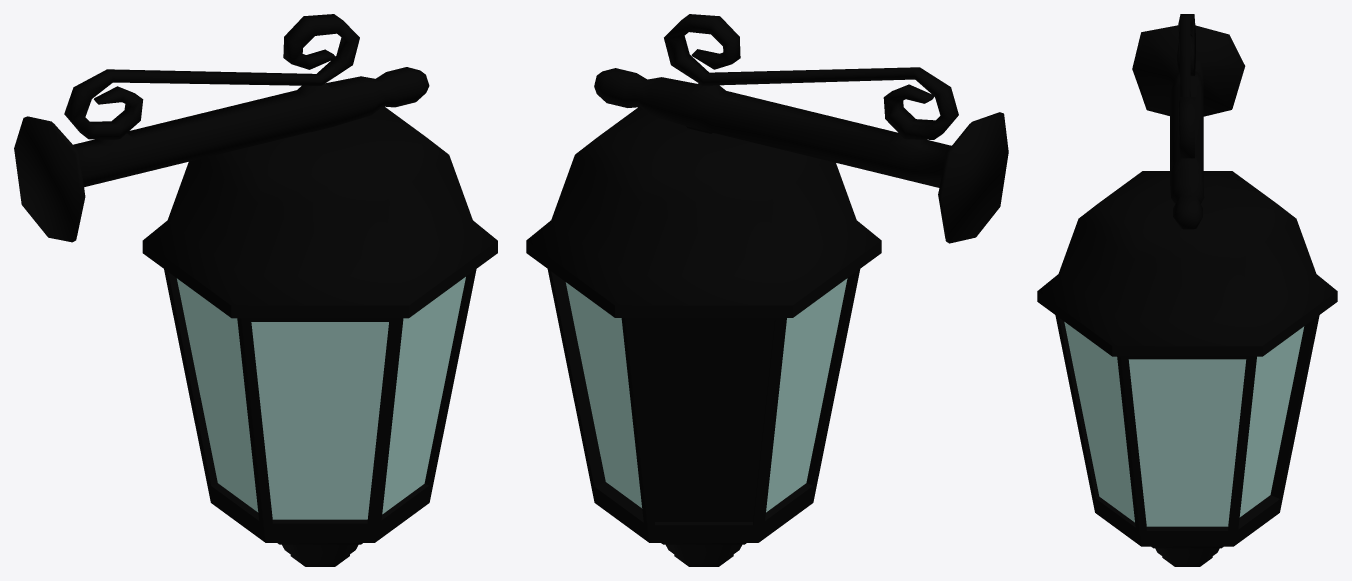
File: Lantern1.fbx
3 renders of one model, left to right at view 1: azimuth 30°, elevation 25°; view 2: azimuth 150°, elevation 25°; view 3: azimuth 270°, elevation 25°, orthographic. The views are drawn at different scales.
Visible parts, largest first — view 1: Cube.051; view 2: Cube.051; view 3: Cube.051.
Boxes of the visible parts, bbox=[...] form: Cube.051: bbox=[14, 14, 497, 566]; Cube.051: bbox=[526, 14, 1008, 566]; Cube.051: bbox=[1037, 14, 1337, 566].
Bounding box in the file's own units: 264 × 200 × 335.
